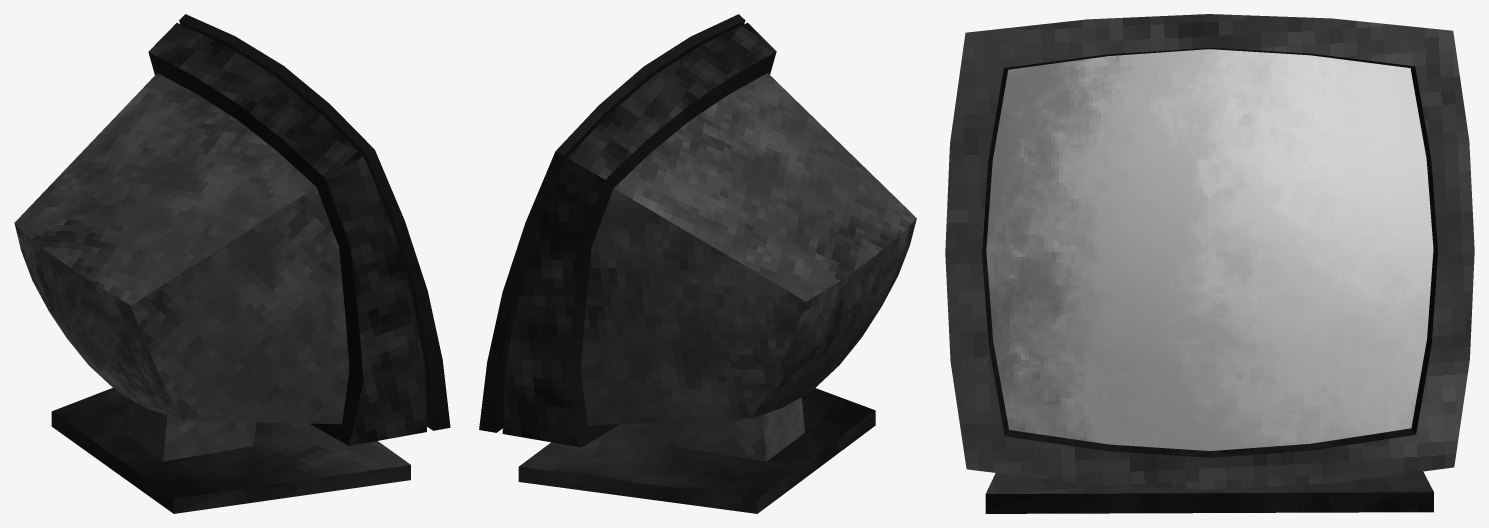
Rendered from CRT.glb.
3 renders of one model, left to right at view 1: azimuth 30°, elevation 25°; view 2: azimuth 150°, elevation 25°; view 3: azimuth 270°, elevation 25°, orthographic. The views are drawn at different scales.
Visible parts, largest first — view 1: Cube.004; view 2: Cube.004; view 3: Cube.004.
Part boxes in pixels (left/top/right/bottom): Cube.004: left=14, top=14, right=450, bottom=513; Cube.004: left=479, top=14, right=916, bottom=513; Cube.004: left=945, top=14, right=1474, bottom=513.
Bounding box in the file's own units: 2.21 × 2.45 × 2.49.
1 material, 1 textured.
